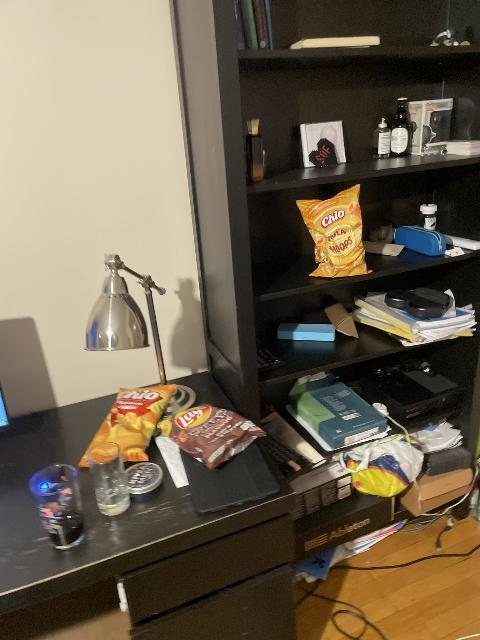Chio Cascaval 125g: (79, 385, 177, 466)
Chio Hula Hoops Cheese 70g: (304, 185, 372, 279)
Lays Beef Grilled Ribs 125g: (166, 401, 269, 468)
